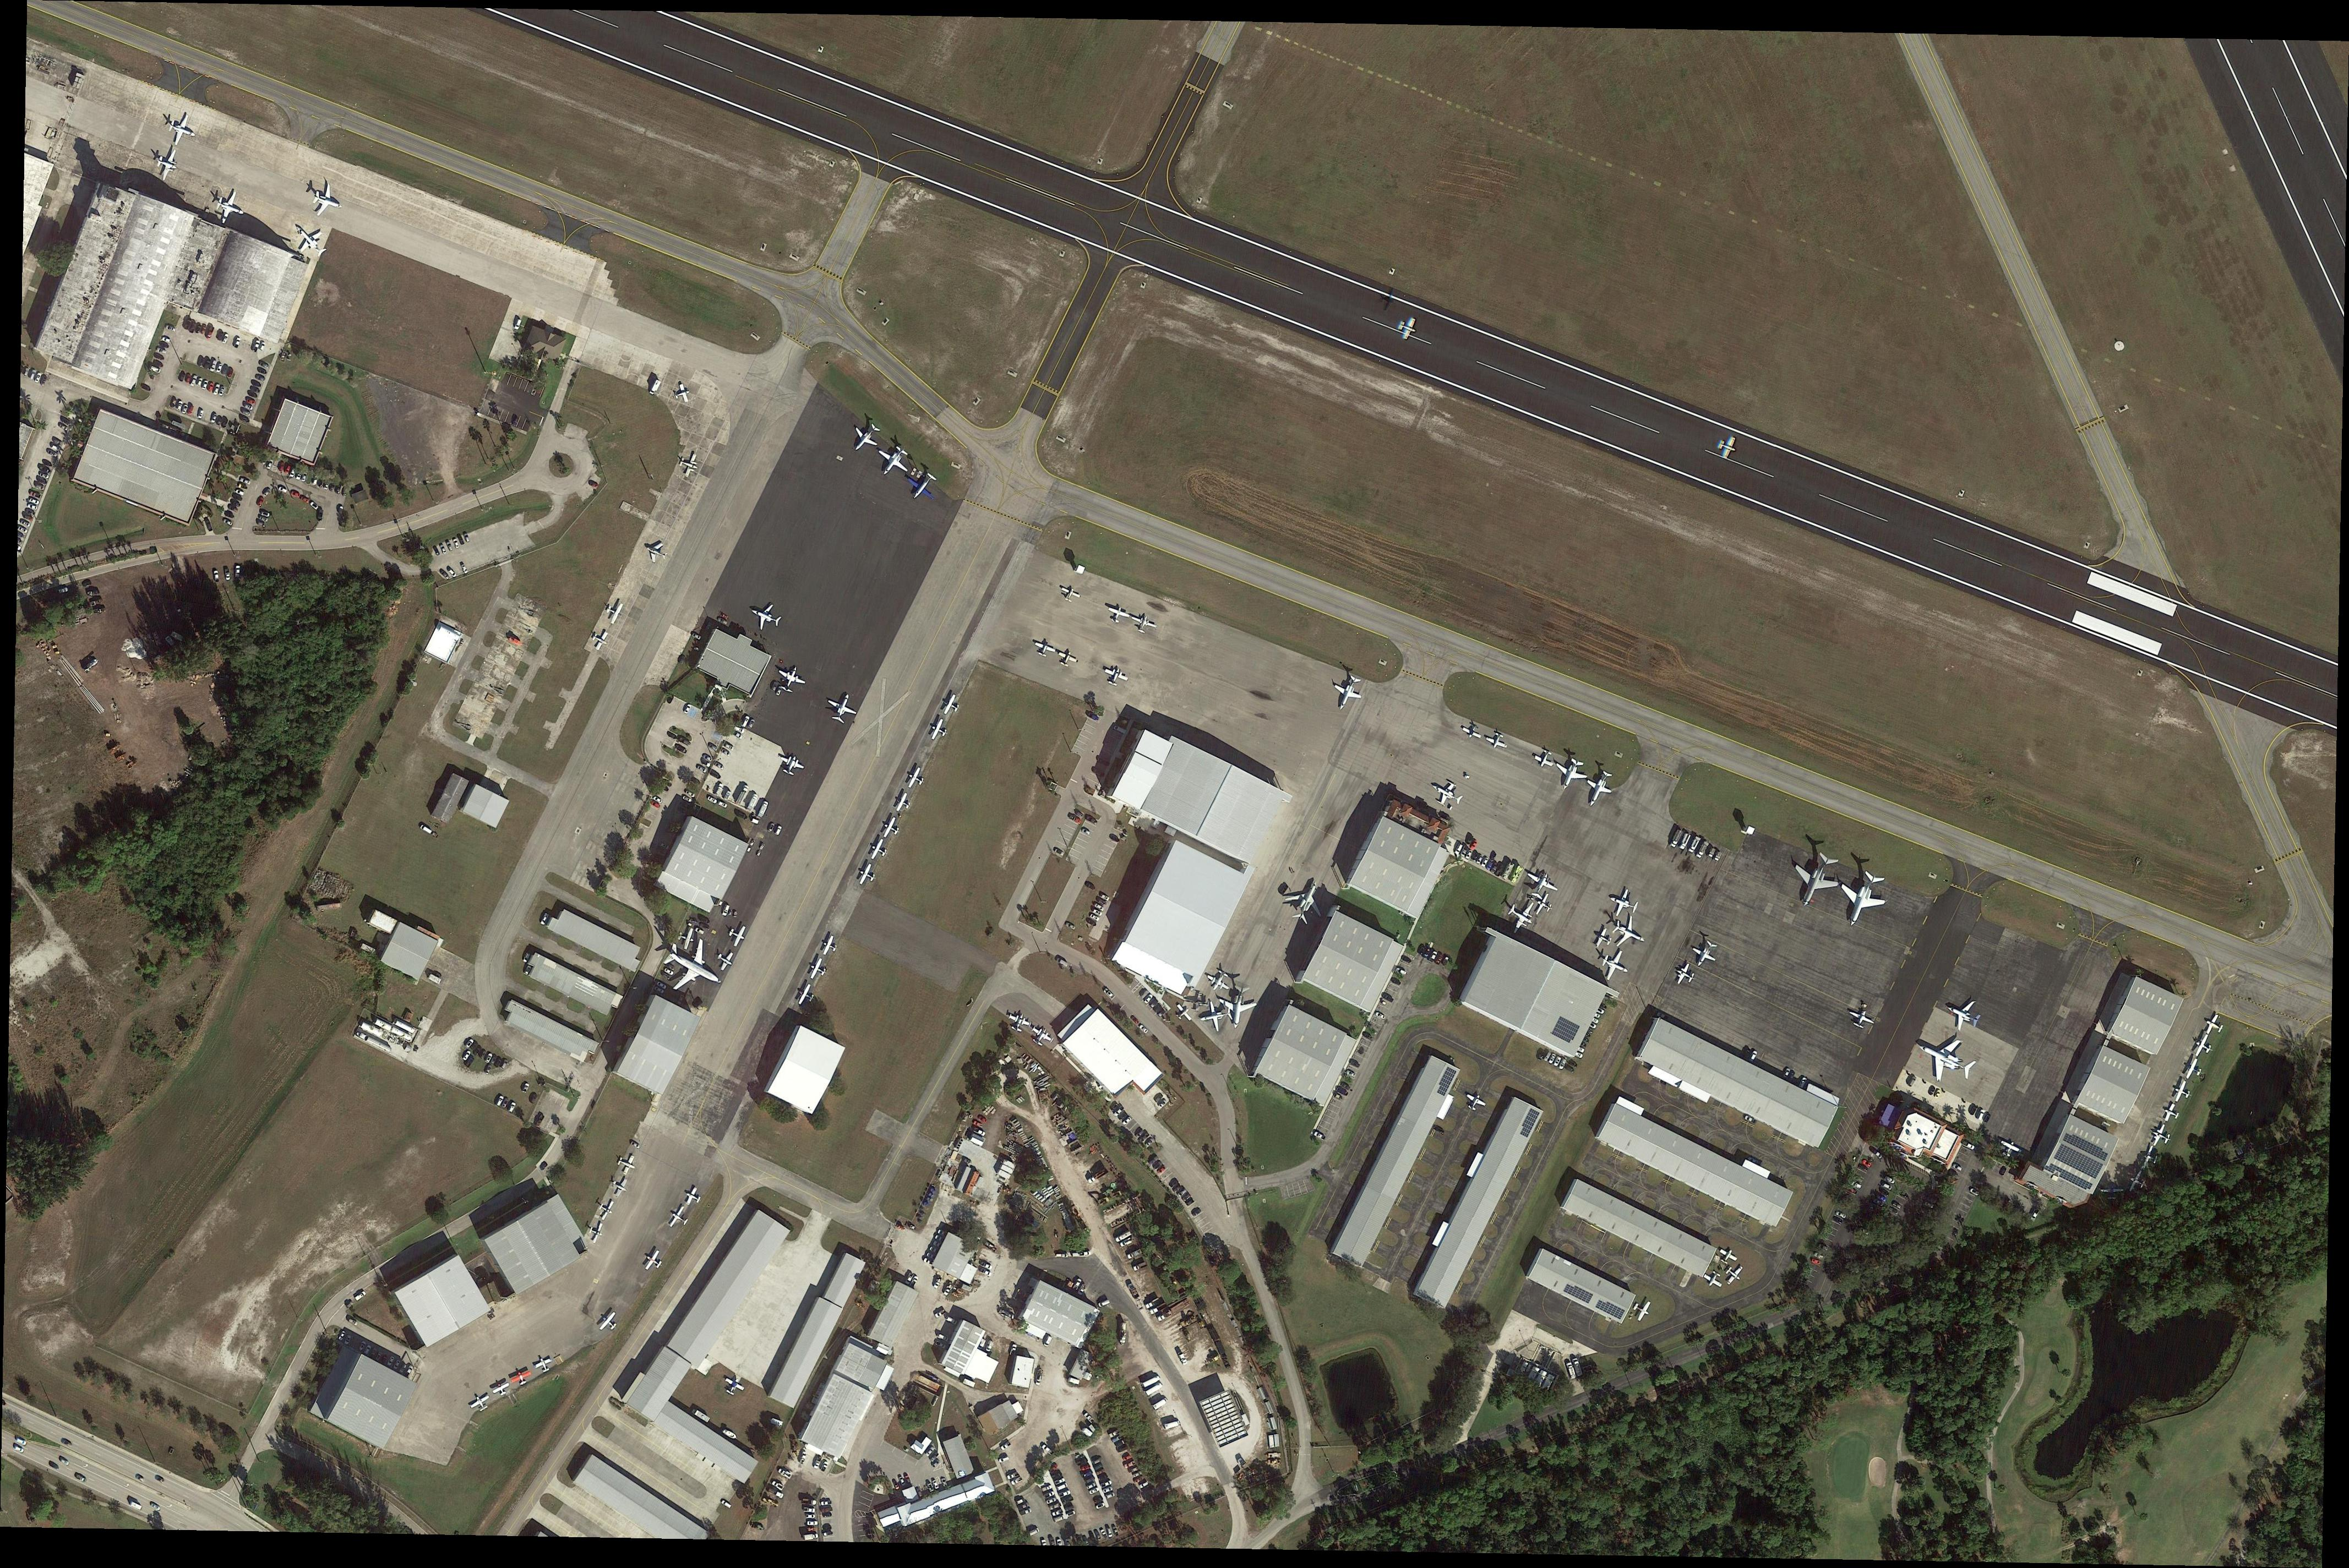plane: (652, 928, 734, 1008), (1909, 1026, 1983, 1093), (1829, 865, 1895, 935), (1783, 845, 1849, 914), (1280, 872, 1334, 930), (868, 438, 917, 487), (285, 217, 333, 265), (1607, 912, 1652, 958), (1215, 986, 1260, 1032), (1325, 670, 1369, 717), (1941, 992, 1986, 1037), (1578, 767, 1620, 814), (901, 466, 945, 510), (1548, 753, 1593, 796), (845, 417, 887, 460), (1500, 894, 1541, 938), (209, 187, 249, 231), (1519, 866, 1563, 906), (745, 597, 785, 638), (822, 687, 862, 728), (308, 181, 347, 222), (1426, 774, 1468, 813), (1596, 946, 1635, 987), (1604, 884, 1643, 924), (1686, 935, 1723, 973), (773, 661, 810, 699), (165, 111, 200, 150), (1198, 998, 1234, 1035), (1133, 985, 1169, 1021), (151, 146, 183, 183), (1202, 965, 1234, 997), (775, 751, 807, 780), (642, 537, 673, 567), (640, 1246, 669, 1277), (593, 1307, 623, 1337), (664, 1202, 694, 1233), (675, 449, 704, 480), (1846, 1006, 1878, 1034), (2189, 1031, 2218, 1062), (1129, 611, 1160, 638), (878, 813, 906, 844), (1530, 890, 1558, 921), (2148, 1121, 2175, 1150), (903, 764, 930, 794), (1672, 960, 1699, 990), (1027, 1022, 1056, 1050), (804, 955, 831, 985), (854, 860, 880, 889), (938, 691, 964, 720), (2201, 1011, 2228, 1040), (1102, 664, 1131, 690), (866, 837, 892, 866), (926, 715, 952, 745), (2180, 1056, 2206, 1085), (794, 981, 819, 1010), (1395, 314, 1420, 343), (2170, 1078, 2195, 1107), (467, 1390, 494, 1416), (1720, 1261, 1747, 1288), (712, 946, 738, 974), (1996, 1137, 2024, 1162), (1005, 1010, 1034, 1035), (2125, 1168, 2149, 1197), (720, 1374, 746, 1400), (1462, 1090, 1489, 1115), (601, 598, 626, 626), (1629, 1296, 1654, 1324), (1590, 926, 1616, 952), (614, 1151, 640, 1178), (724, 921, 749, 948), (587, 626, 612, 654), (1715, 433, 1740, 461), (1532, 747, 1558, 772), (2139, 1145, 2162, 1173), (1105, 603, 1131, 628), (1031, 637, 1059, 661), (1484, 729, 1511, 753), (819, 933, 842, 961), (680, 1185, 705, 1211), (1699, 1268, 1726, 1292), (608, 1173, 632, 1200), (1171, 1001, 1195, 1026), (892, 790, 914, 817), (1055, 647, 1081, 671), (595, 1198, 618, 1223), (1715, 1245, 1740, 1268), (675, 926, 697, 952), (1057, 584, 1082, 607), (1460, 720, 1485, 742), (509, 1367, 534, 1389), (2161, 1102, 2183, 1127), (672, 382, 692, 406), (587, 1221, 607, 1245), (491, 1380, 513, 1400), (533, 1356, 555, 1375), (2100, 1183, 2123, 1201), (1190, 993, 1210, 1012)
ship: (720, 1427, 739, 1441), (507, 636, 525, 648), (715, 615, 729, 627), (770, 1417, 784, 1428), (683, 703, 693, 715), (693, 646, 704, 654), (679, 654, 686, 664), (691, 633, 701, 640)
